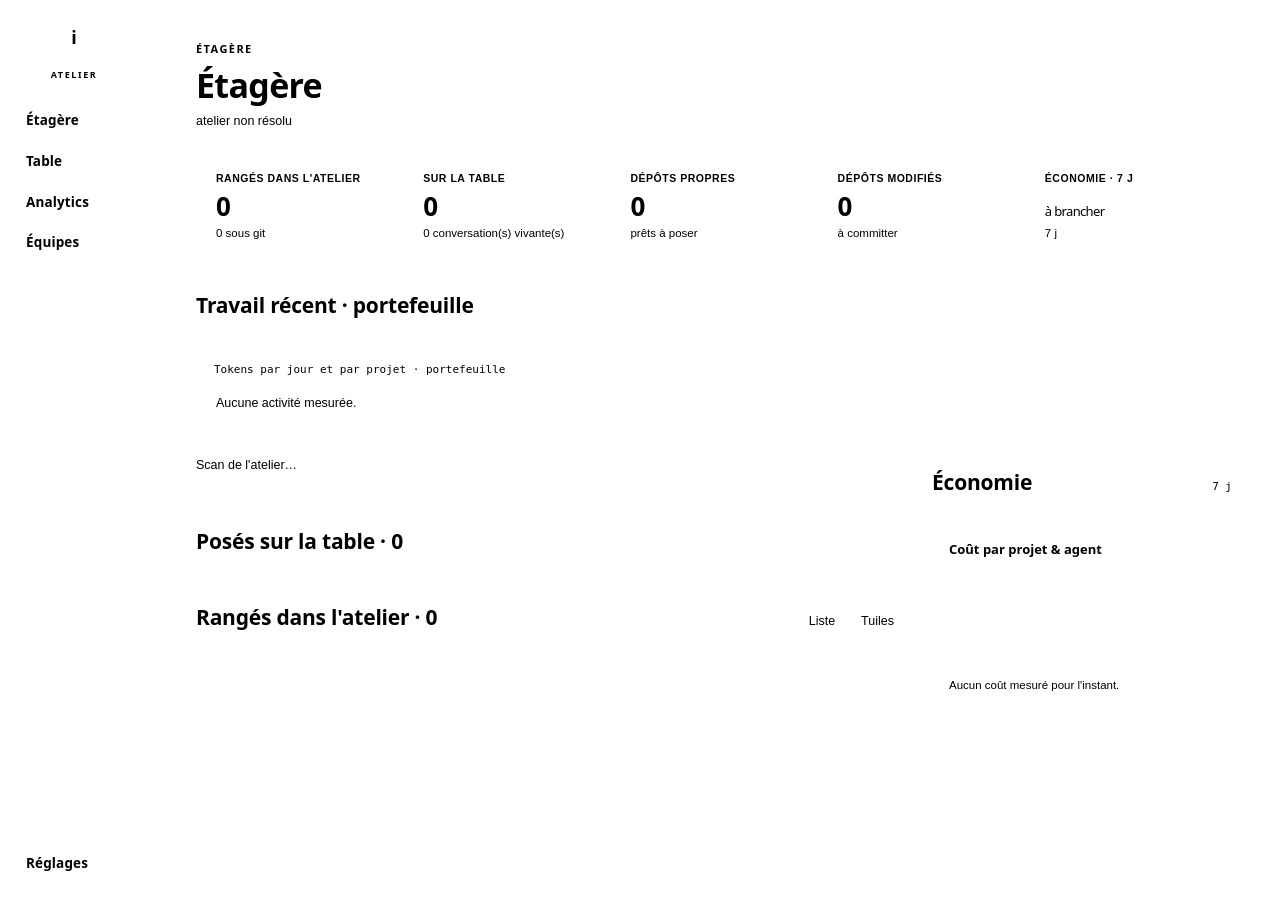
Scenario: App — nav vers Teams (L13) › affiche la vue Teams au clic du bouton de nav
The image size is (1280, 900).
Expected: the heading "Casting" is not shown
Click the button "Équipes": point(74, 243) [12,224,136,261]
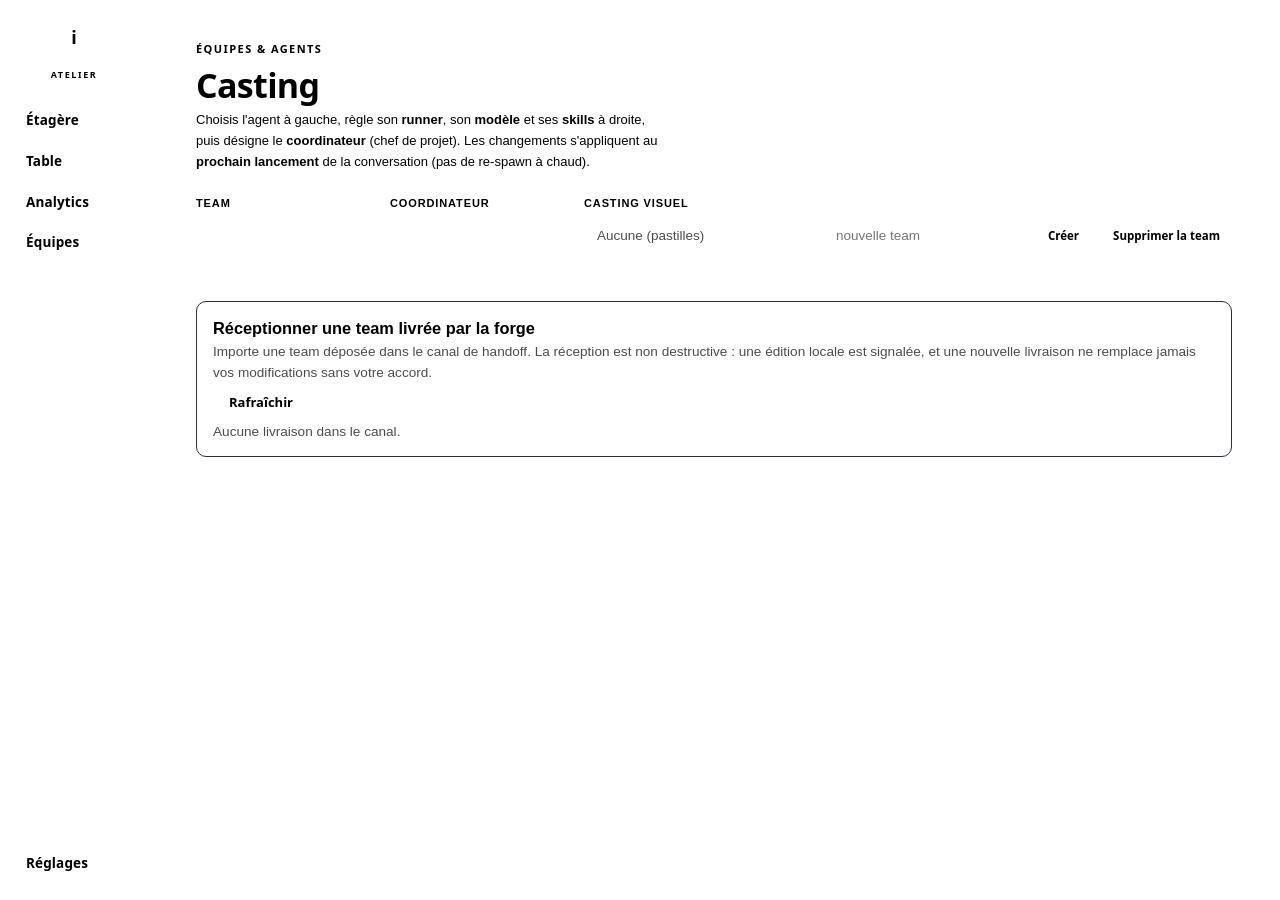
Now the heading "Casting" is shown, box [196,62,319,108]
